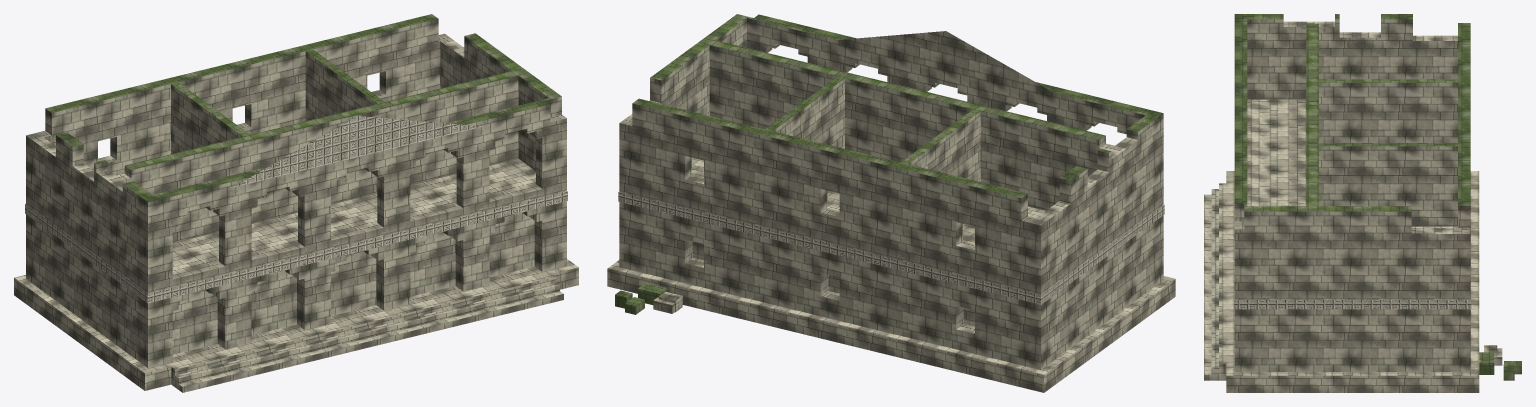
The model's file is ruin-arcade-a.ruins-v3.lod1.glb.
The picture shows the model from 3 angles, left to right: view 1: azimuth 30°, elevation 25°; view 2: azimuth 150°, elevation 25°; view 3: azimuth 270°, elevation 25°; orthographic projection. The views are drawn at different scales.
Visible parts, largest first — view 1: ruin-arcade-a; view 2: ruin-arcade-a; view 3: ruin-arcade-a.
Boxes of the visible parts, left/top/right/bottom form: ruin-arcade-a: left=14, top=14, right=578, bottom=392; ruin-arcade-a: left=607, top=14, right=1175, bottom=392; ruin-arcade-a: left=1204, top=14, right=1521, bottom=392.
Bounding box in the file's own units: 23 × 11.1 × 15.07.
3 materials, 3 textured.
